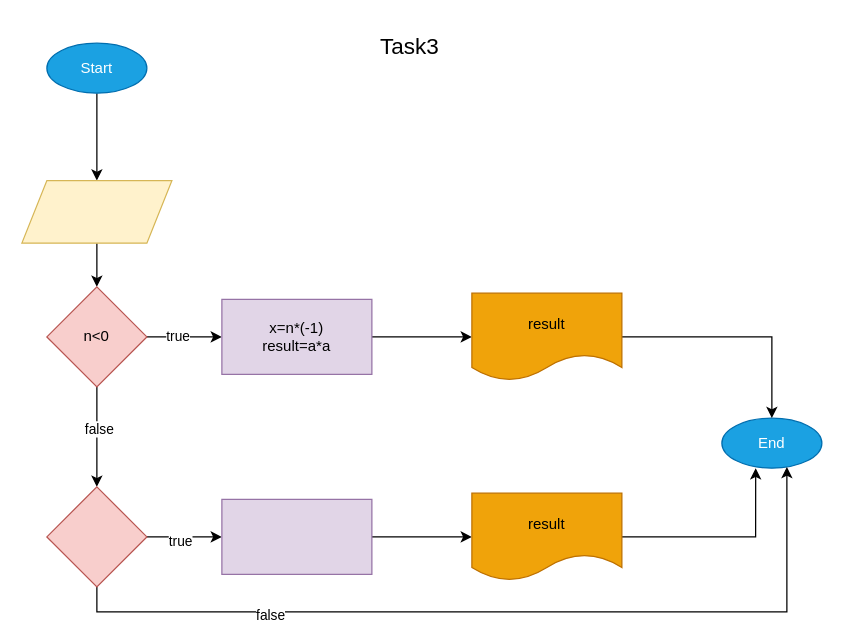
The diagram is 844 pixels wide and 644 high, and some of its shapes have lost their labels. Here are the shapes that lost their labels. From the top down, the centre of each, then its label:
the point at 96,211: n, result ,a
the point at 96,536: n>0
the point at 296,536: rsult=n*n*n
